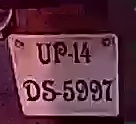1: (73, 40, 82, 67)
4: (80, 42, 93, 65)
5: (61, 77, 76, 104)
7: (101, 75, 115, 104)
9: (88, 77, 104, 103), (75, 75, 90, 102)
D: (23, 78, 41, 103)
P: (52, 37, 67, 67)
S: (42, 76, 57, 103)
U: (36, 39, 54, 66)
